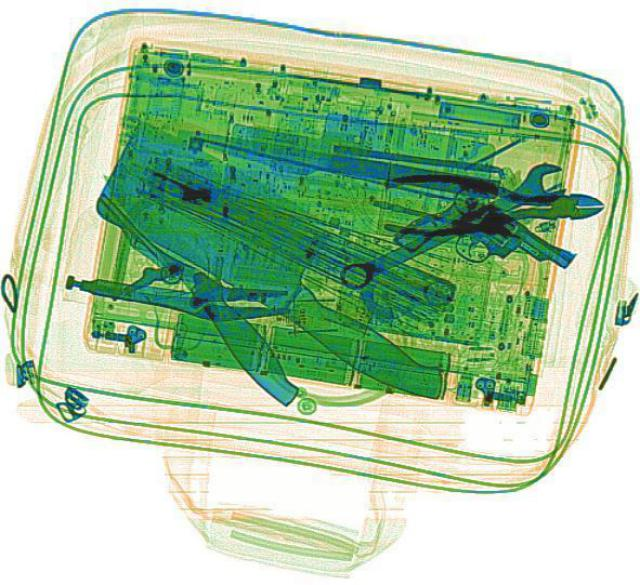Gun: (387, 176, 577, 317)
Knife: (69, 128, 493, 407), (88, 159, 306, 408), (171, 123, 499, 209)
Pliers: (383, 172, 605, 236)
Wrench: (330, 153, 578, 296)
